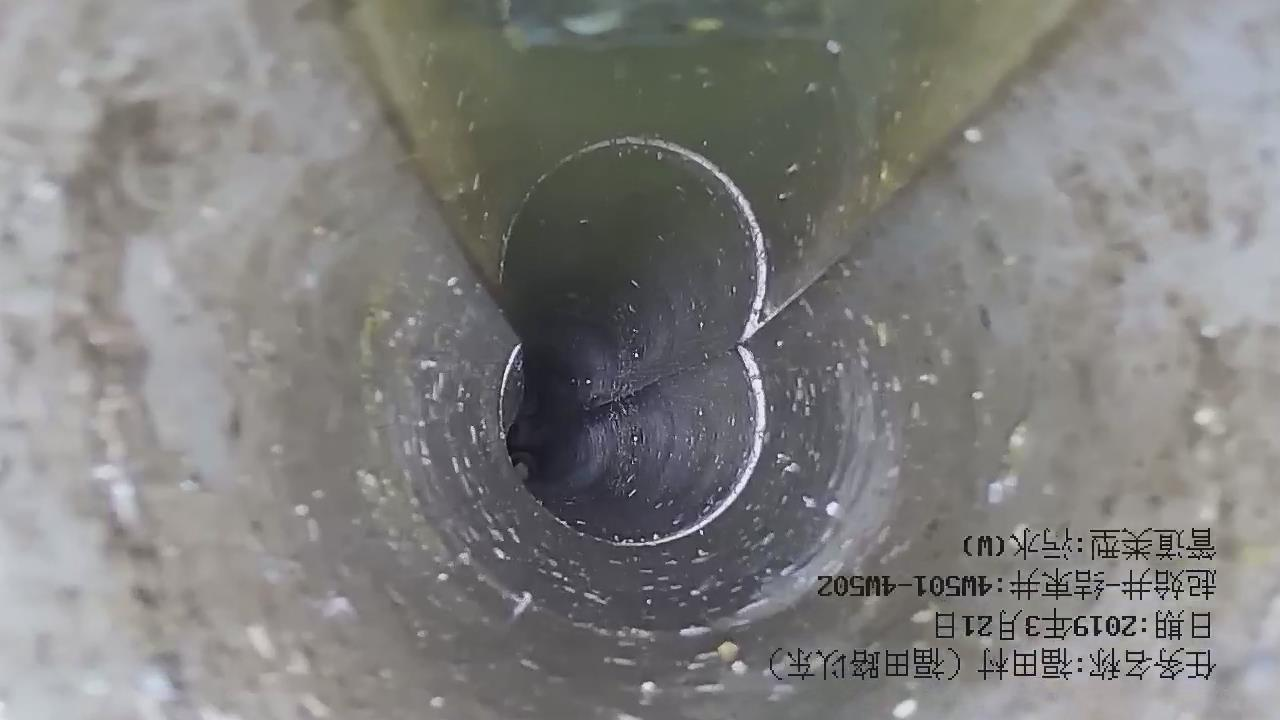CKTJ: (492, 336, 773, 554)
